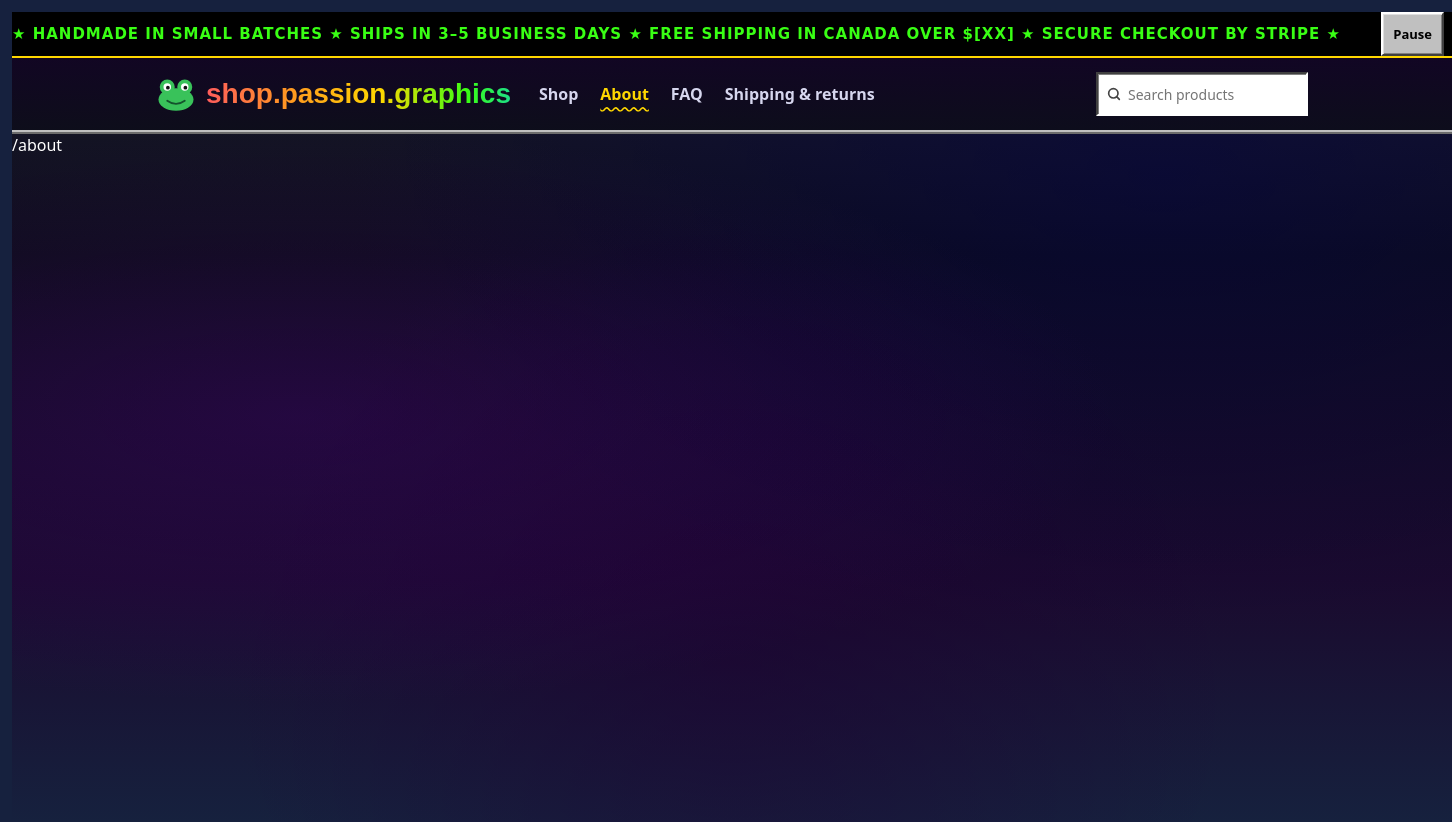
it: SiteHeader › search › goes to the home page shop grid with the query
The width and height of the screenshot is (1452, 822).
Type "frog" into the search field labelled "Search products".
click(1213, 94); type("frog")  # box [1128,76,1298,112]
Then press Enter
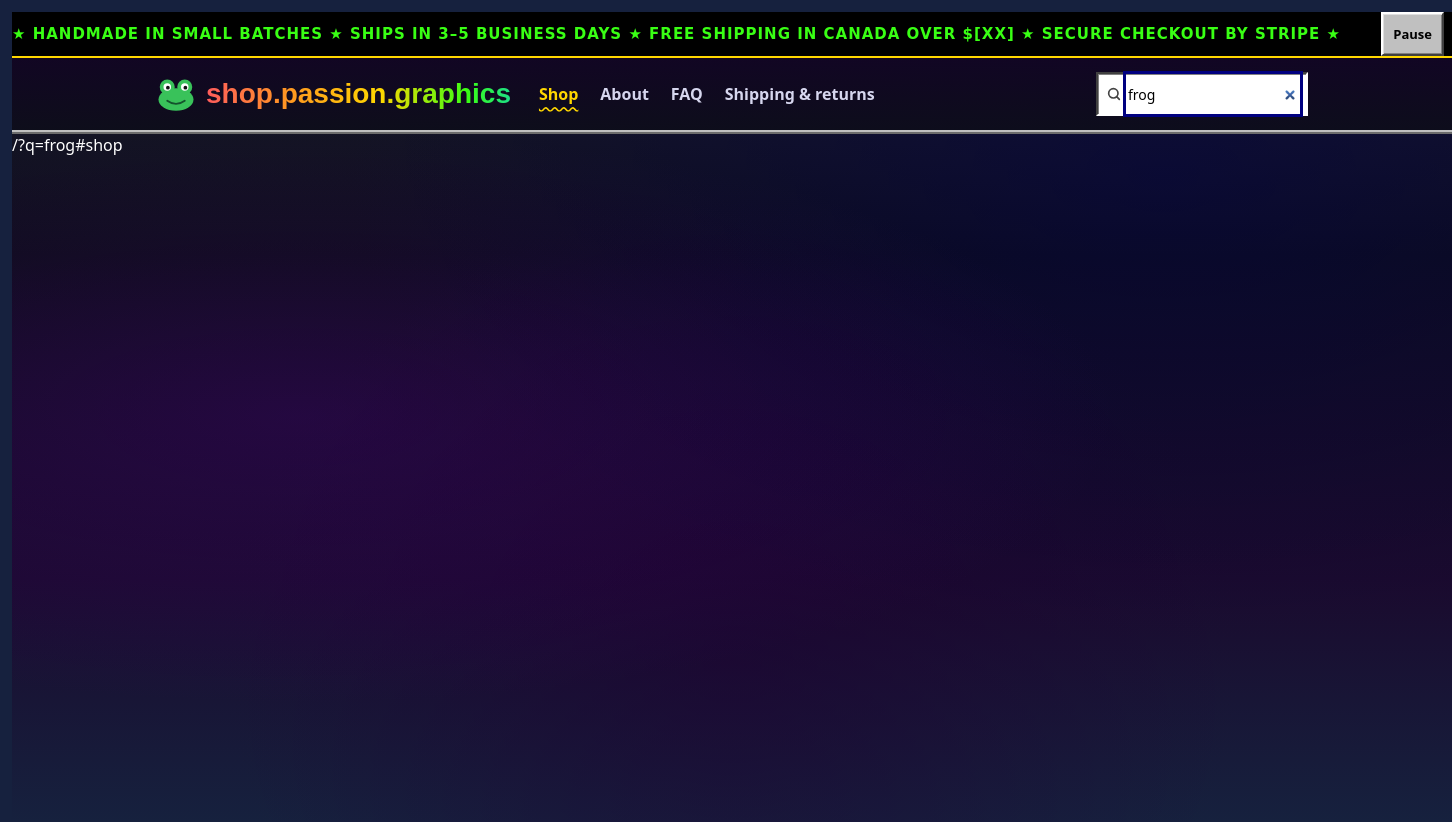
Expected: the text with test id "location" reads "/?q=frog#shop", [12,134,123,156]
